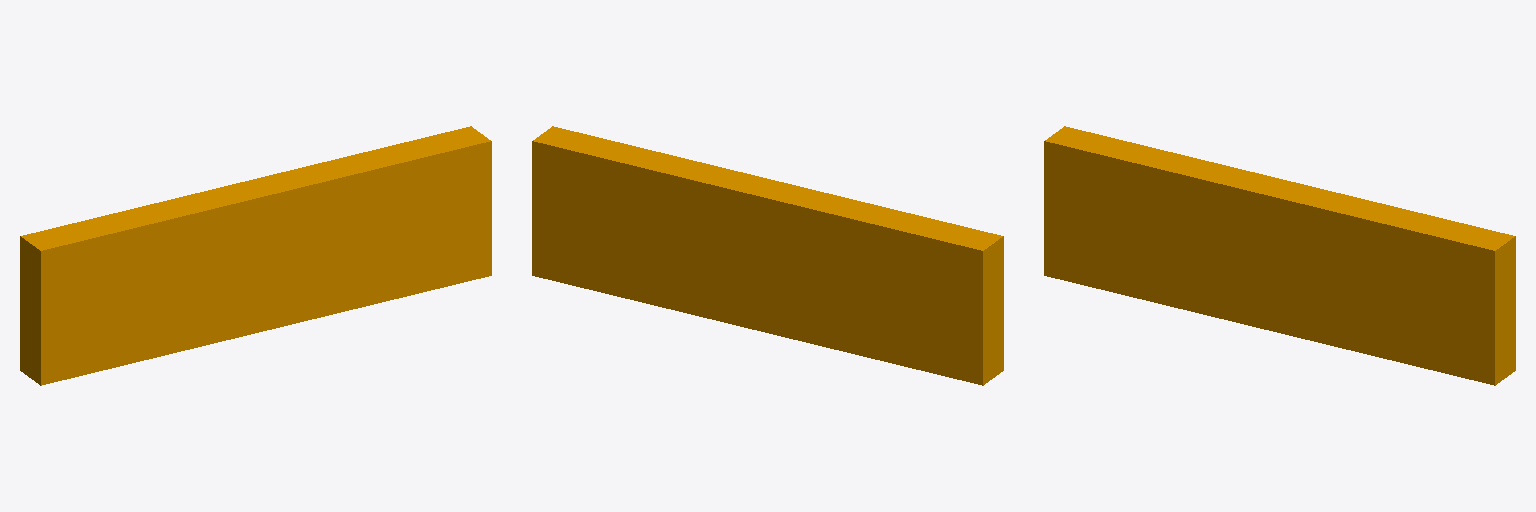
robot.urdf — wall_small:
<?xml version="1.0"?>

<robot name="wall_small">
   <link name="base_link">
     <inertial>
       <origin xyz="0 0 0" />
       <mass value="50.0" />
       <inertia  ixx="1.0" ixy="0.0"  ixz="0.0"  iyy="100.0"  iyz="0.0"  izz="1.0" />
     </inertial>
     <visual>
       <origin xyz="0 0 0"/>
       <geometry>
         <box size="3.85 0.3 1.1" />
       </geometry>
     </visual>
     <collision>
       <origin xyz="0 0 0"/>
       <geometry>
         <box size="3.85 0.3 1.1" />
       </geometry>
     </collision>
   </link>
   <gazebo>
     <material>IPA/Wall2</material>
   </gazebo>
</robot>

--- Facts derived from the render (not from the file) ---
The picture shows the robot from 3 angles, left to right: view 1: azimuth 30°, elevation 25°; view 2: azimuth 150°, elevation 25°; view 3: azimuth 330°, elevation 25°; orthographic projection.
Robot: wall_small — 1 links, 0 joints (none); root link base_link; default pose: all joints at 0.
Visible links, largest first — view 1: base_link; view 2: base_link; view 3: base_link.
Link boxes in pixels (x1,y1,x2,y2): base_link: (20,126,491,385); base_link: (532,126,1003,385); base_link: (1044,126,1515,385).
Size in the robot's own frame: 3.85 by 0.3 by 1.1 metres.
Geometry: primitives only (box / cylinder / sphere), no mesh files.